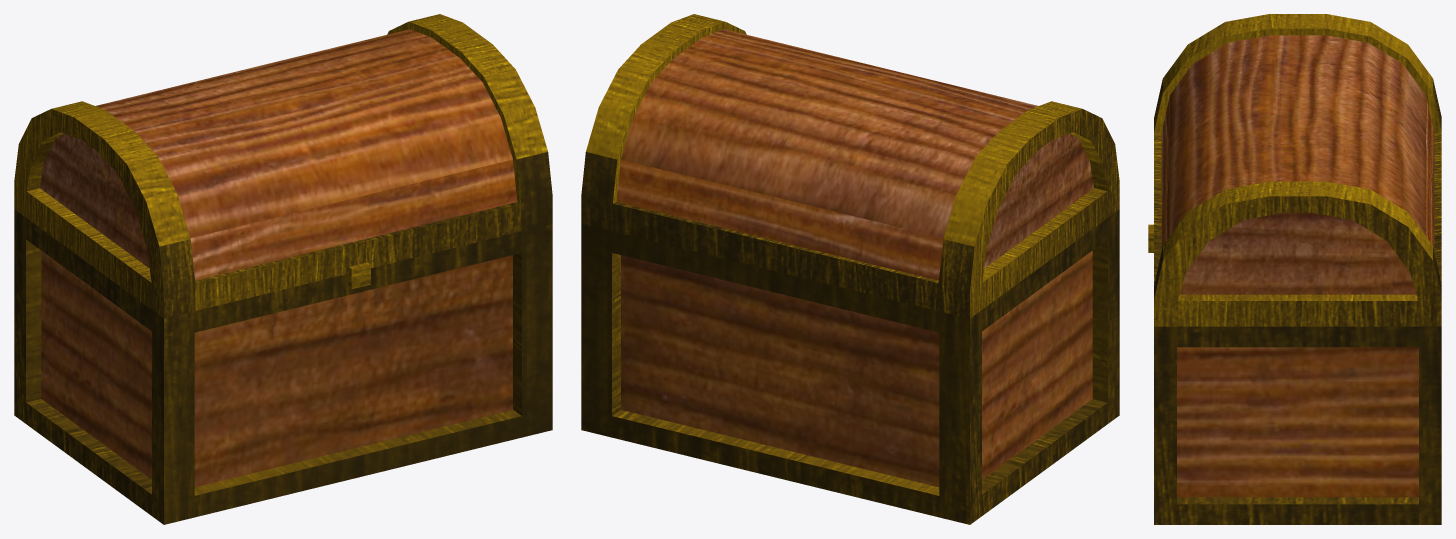
The model's file is Takara.fbx.
3 views of the same model, side by side, from view 1: azimuth 30°, elevation 25°; view 2: azimuth 150°, elevation 25°; view 3: azimuth 270°, elevation 25° (orthographic). The views are drawn at different scales.
Parts seen in each view (by area): view 1: pCube3; view 2: pCube3; view 3: pCube3.
Boxes of the visible parts, <box> form: pCube3: <box>14,14,552,524</box>; pCube3: <box>581,14,1119,524</box>; pCube3: <box>1148,14,1441,524</box>.
Bounding box in the file's own units: 1.5 × 1.26 × 1.02.
